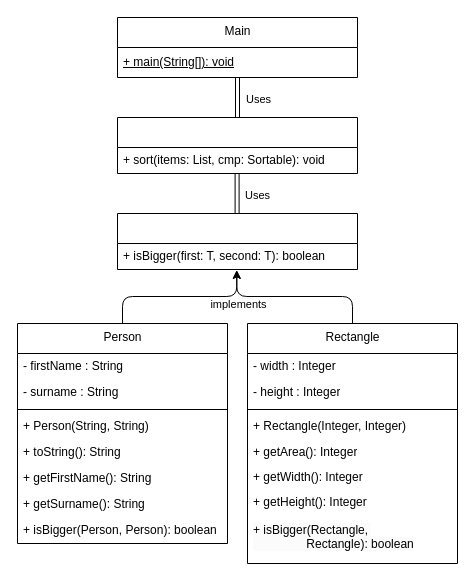
The diagram is 475 pixels wide and 581 high, and some of its shapes have lost their labels. Each missing label, with the box of its shape:
Sortable: (116, 212, 358, 270)
Sorter: (116, 116, 358, 174)
